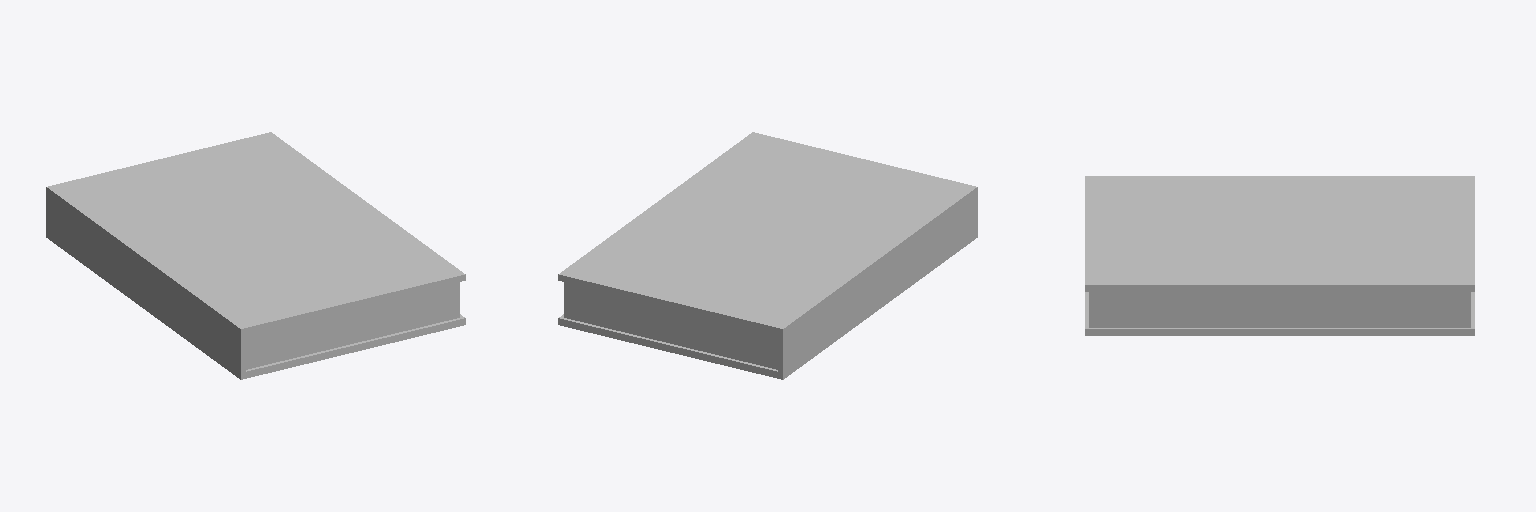
File: book.obj
3 renders of one model, left to right at view 1: azimuth 30°, elevation 25°; view 2: azimuth 150°, elevation 25°; view 3: azimuth 270°, elevation 25°, orthographic.
Parts seen in each view (by area): view 1: pCube1; view 2: pCube1; view 3: pCube1.
Part boxes in pixels (x1,y1,x2,y2): pCube1: (46, 132, 465, 379); pCube1: (558, 132, 977, 379); pCube1: (1085, 176, 1474, 335).
Bounding box in the file's own units: 0.0378 × 0.0082 × 0.0566.